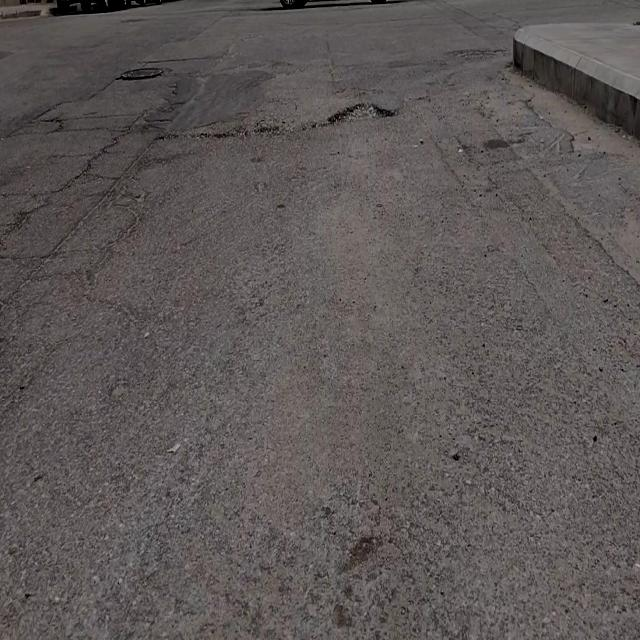Potholes: (327, 102, 395, 124)
